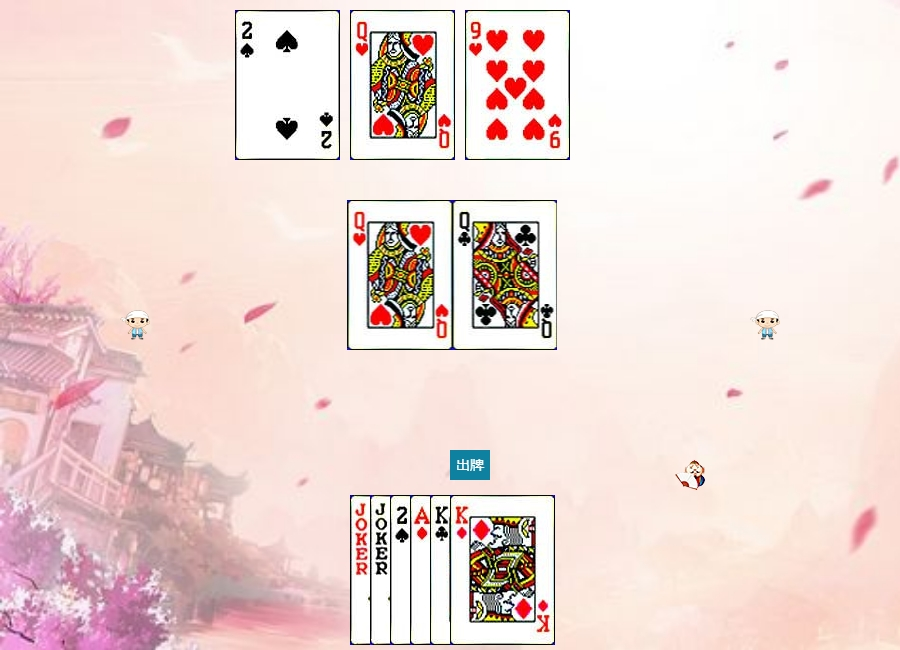12~2: (453, 200, 558, 350)
12~3: (350, 10, 455, 160), (348, 200, 453, 350)
13~1: (450, 495, 555, 645)
13~2: (430, 495, 535, 645)
14~1: (410, 495, 515, 645)
15~4: (235, 10, 340, 160), (390, 495, 495, 645)
17~3: (370, 495, 475, 645)
18~4: (350, 495, 455, 645)
9~3: (465, 10, 570, 160)
